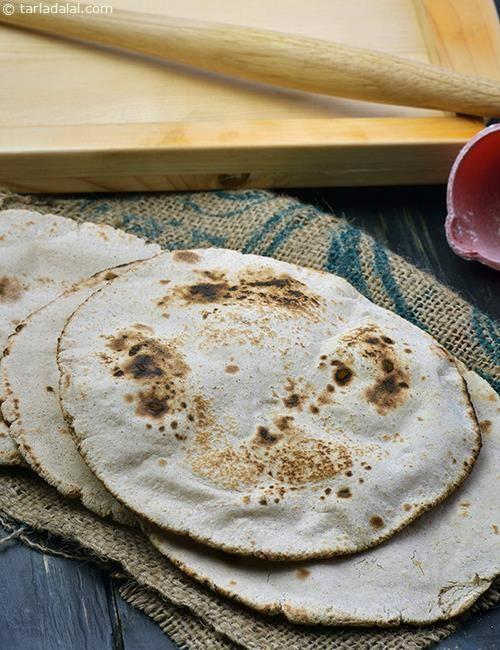roti phulka: (1, 247, 500, 562)
